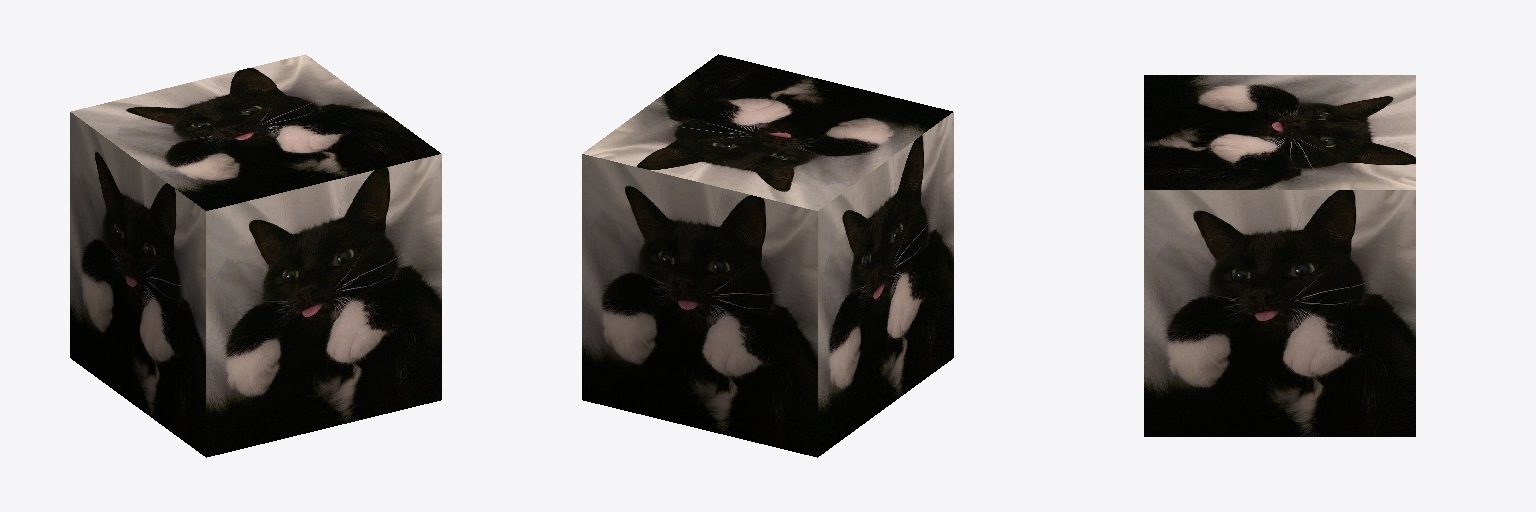
The picture shows the model from 3 angles: view 1: azimuth 30°, elevation 25°; view 2: azimuth 150°, elevation 25°; view 3: azimuth 270°, elevation 25°; orthographic projection.
Parts seen in each view (by area): view 1: CatBox; view 2: CatBox; view 3: CatBox.
Boxes of the visible parts, <box> form: CatBox: <box>70,54,441,457</box>; CatBox: <box>582,54,953,457</box>; CatBox: <box>1144,75,1415,436</box>.
Size of the model in its own units: 2 by 2 by 2.
Materials: 1 (1 with a texture image).